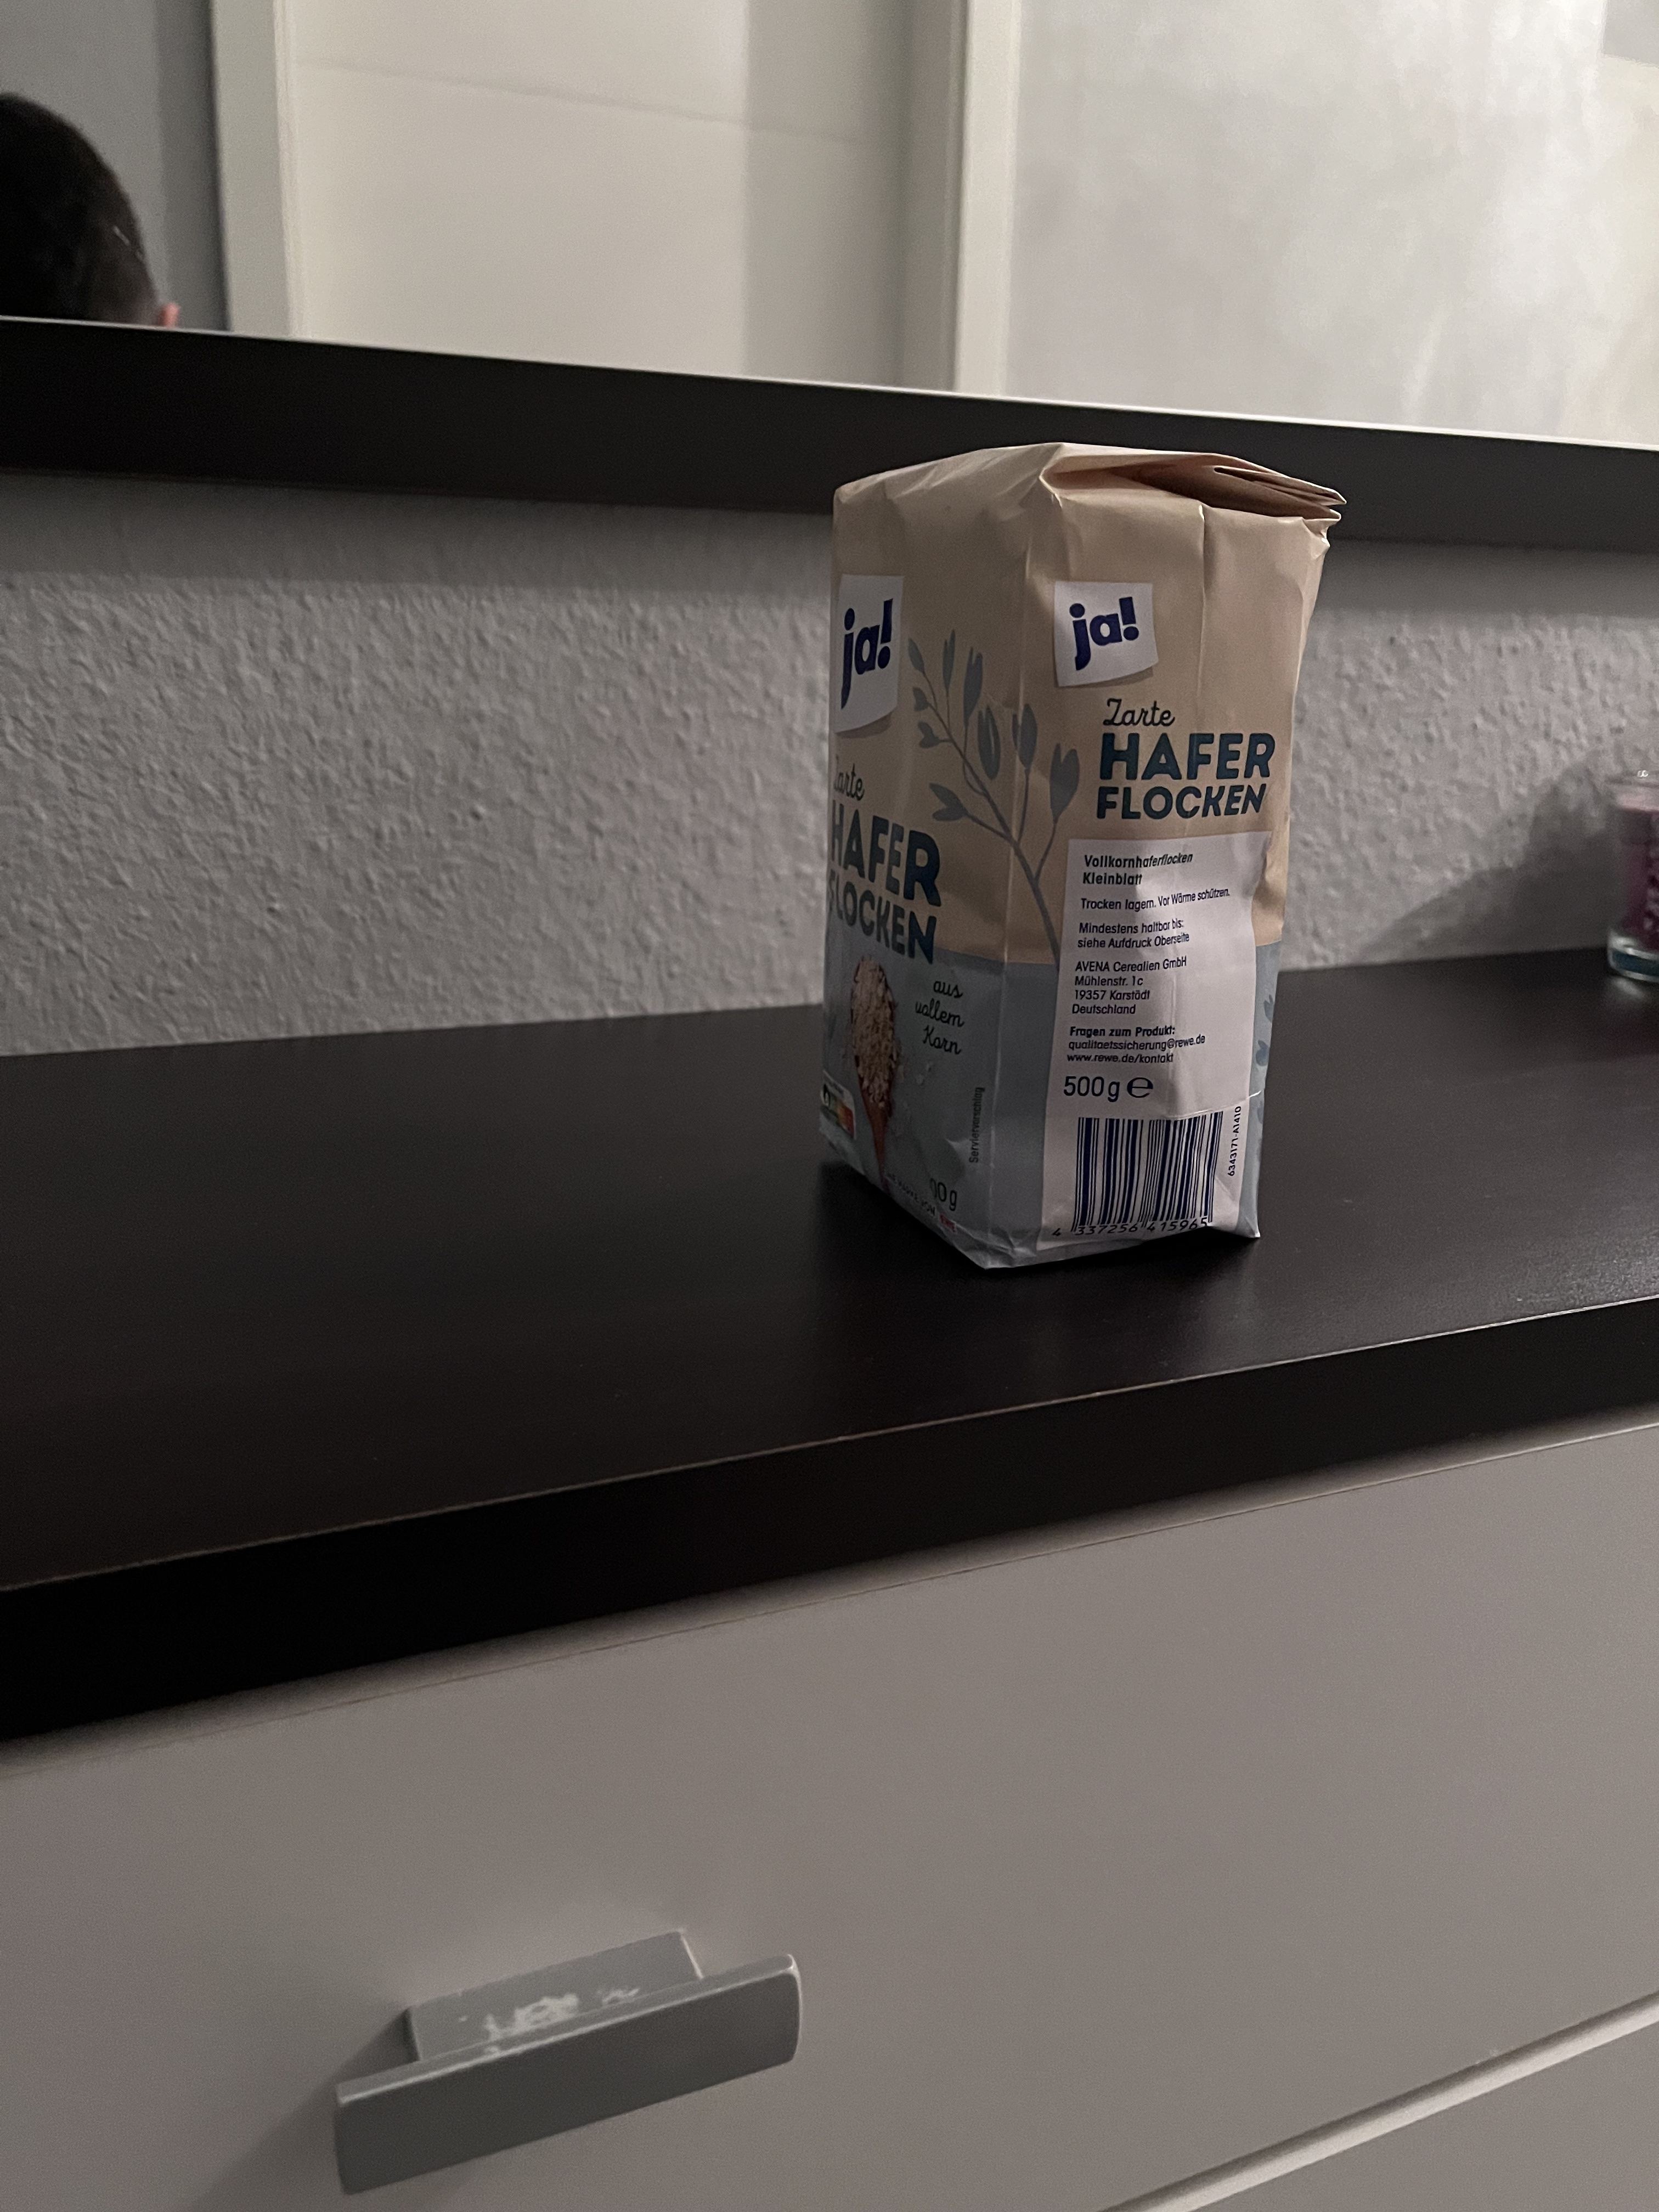haferflocken_ja: (810, 435, 1342, 1282)
